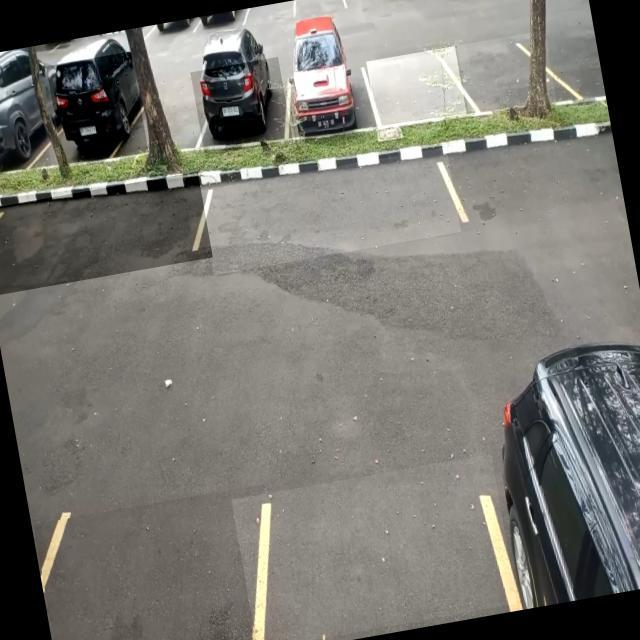empty: (258, 494, 517, 640), (198, 146, 461, 275), (42, 500, 267, 640), (0, 171, 212, 296), (456, 30, 556, 116), (366, 46, 466, 130)
occupied: (46, 50, 148, 166), (190, 56, 292, 156), (280, 50, 378, 139), (0, 60, 51, 182)
